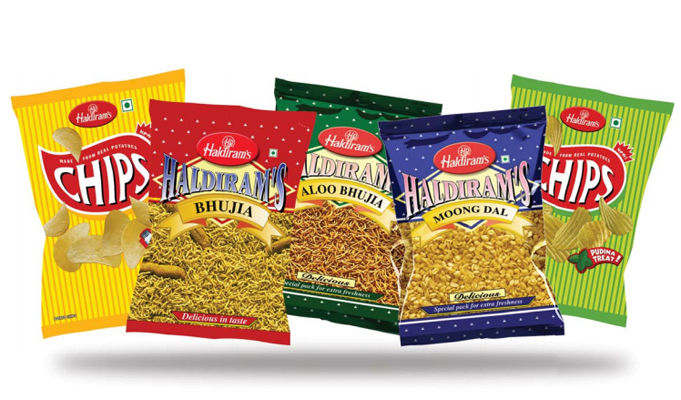VEG: (120, 98, 133, 113), (610, 116, 622, 129), (500, 153, 511, 163), (268, 147, 278, 157)
